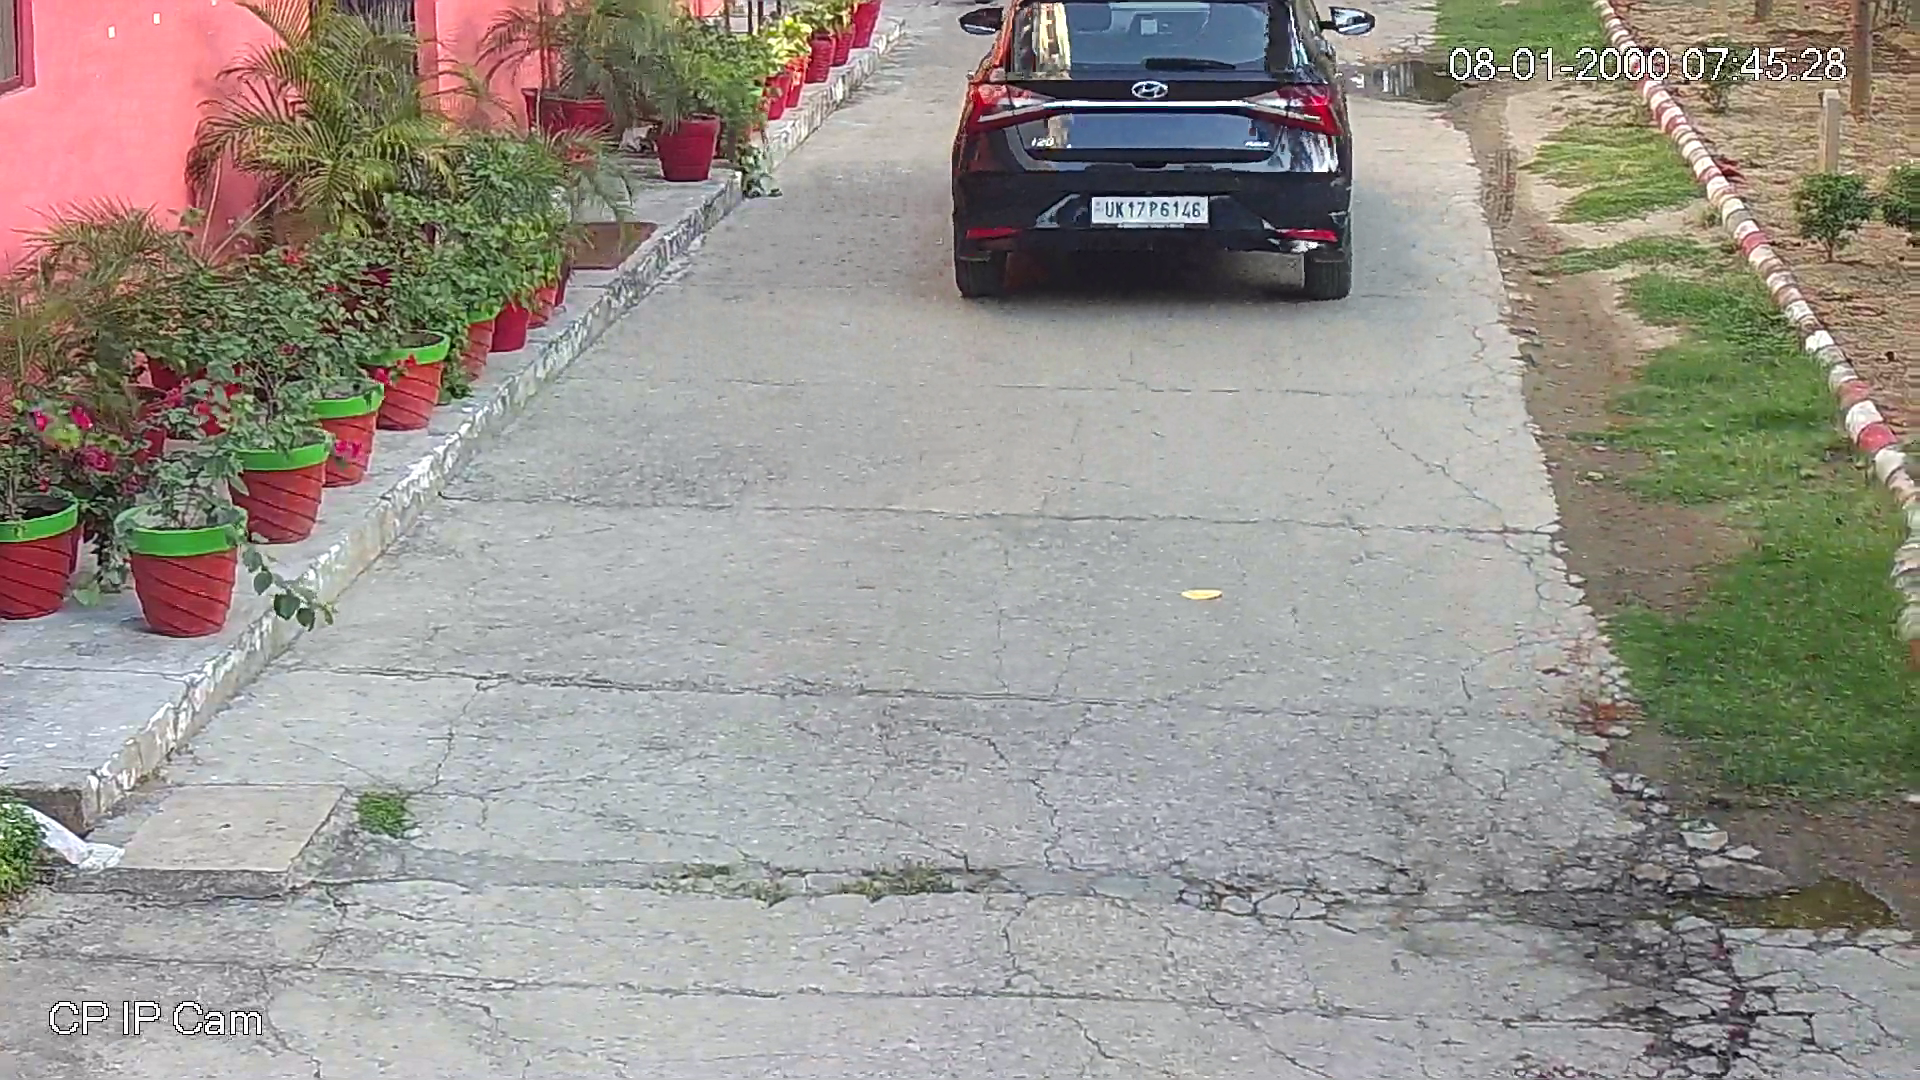plate: (1083, 190, 1211, 231)
